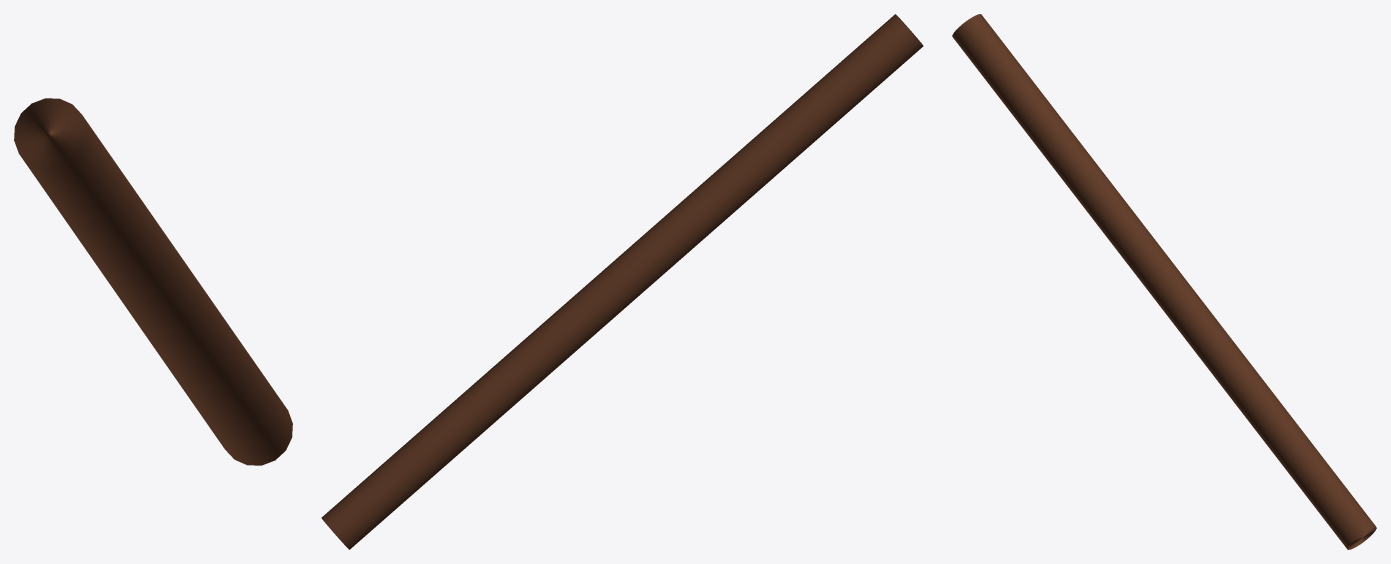
Rendered from baxtao.fbx.
3 views of the same model, side by side, from view 1: azimuth 30°, elevation 25°; view 2: azimuth 150°, elevation 25°; view 3: azimuth 270°, elevation 25° (orthographic). The views are drawn at different scales.
Visible parts, largest first — view 1: Cylinder; view 2: Cylinder; view 3: Cylinder.
Part boxes in pixels (x1,y1,x2,y2): Cylinder: (14, 98, 292, 465); Cylinder: (321, 14, 923, 549); Cylinder: (952, 14, 1376, 549).
Bounding box in the file's own units: 126 × 144 × 142.
